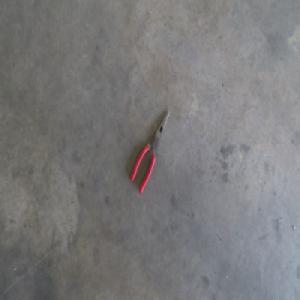Pliers: (129, 111, 170, 196)
